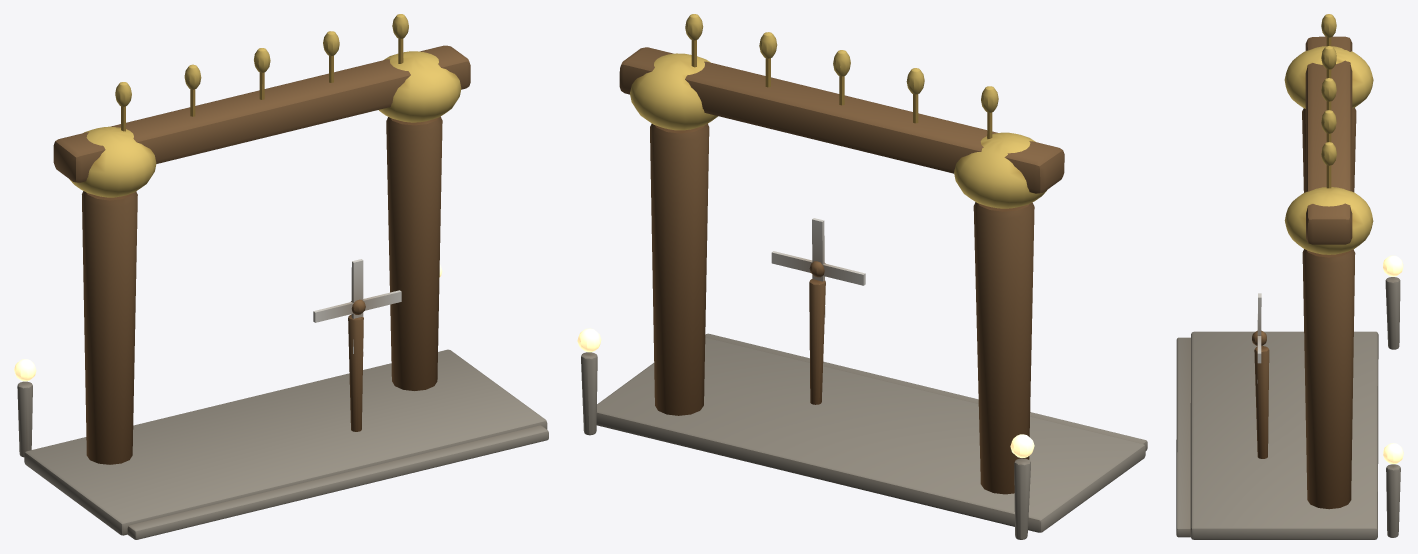
3 renders of one model, left to right at view 1: azimuth 30°, elevation 25°; view 2: azimuth 150°, elevation 25°; view 3: azimuth 270°, elevation 25°, orthographic. The views are drawn at different scales.
Visible parts, largest first — view 1: gate_74a5a999; view 2: gate_74a5a999; view 3: gate_74a5a999.
Part boxes in pixels (box(x1,y1,x2,y2)): gate_74a5a999: box(14, 14, 548, 539); gate_74a5a999: box(577, 14, 1147, 539); gate_74a5a999: box(1176, 14, 1403, 539).
Size of the model in its own units: 5.24 by 4.51 by 2.55.
